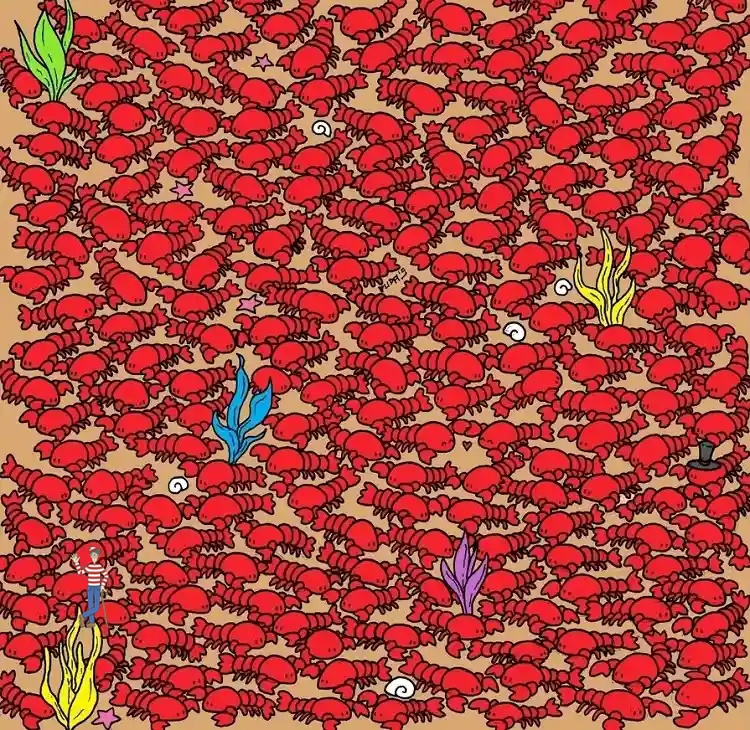waldo: (70, 545, 109, 628)
